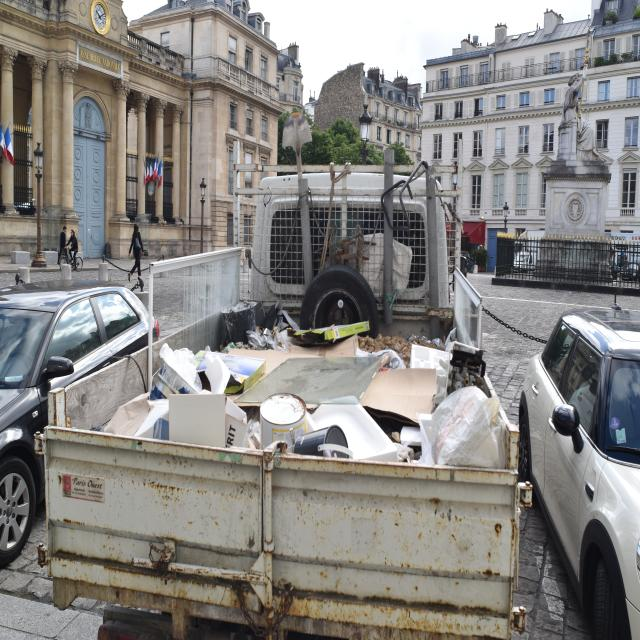lixo domiciliar: (102, 327, 508, 482), (208, 256, 474, 370)
